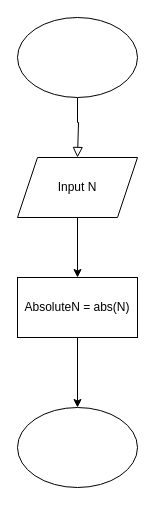
The diagram is 155 pixels wide and 505 high, and some of its shapes have lost their labels. The shapes that lost their labels are listed below. From the top down, each one's centre as x and y in pixels, then its label:
the point at 77,57: Start
the point at 77,447: Finish
